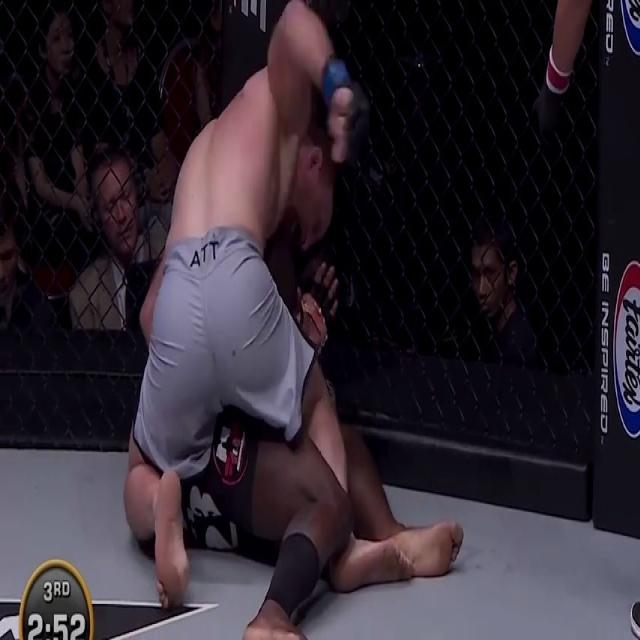fight: (114, 1, 466, 640)
